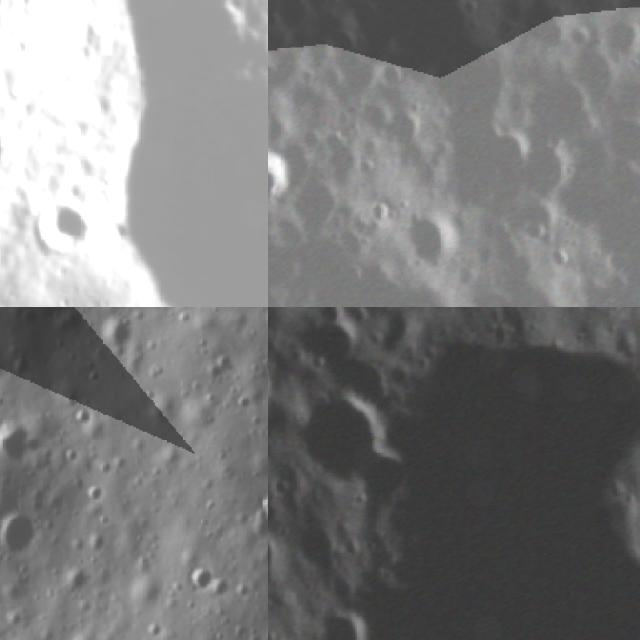crater: (344, 326, 640, 640), (292, 396, 393, 486), (268, 267, 462, 307), (513, 74, 608, 140), (25, 193, 107, 267), (517, 140, 589, 206), (401, 205, 466, 273), (340, 360, 411, 419), (357, 450, 419, 516), (303, 322, 372, 378), (513, 0, 575, 58), (268, 528, 304, 608), (329, 49, 381, 104), (0, 506, 45, 560), (297, 528, 345, 575), (594, 16, 640, 64), (268, 145, 298, 217), (608, 110, 640, 176), (384, 109, 428, 155), (0, 419, 41, 467), (103, 314, 142, 360), (179, 556, 220, 598), (320, 610, 377, 640), (467, 281, 528, 307), (268, 355, 285, 426), (0, 110, 18, 176), (366, 198, 395, 232), (384, 62, 408, 102), (67, 403, 96, 432)
